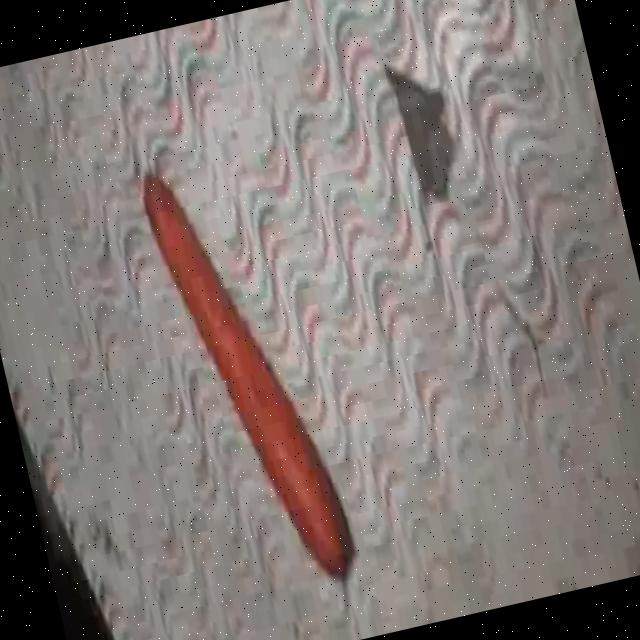carrot: (143, 175, 352, 576)
